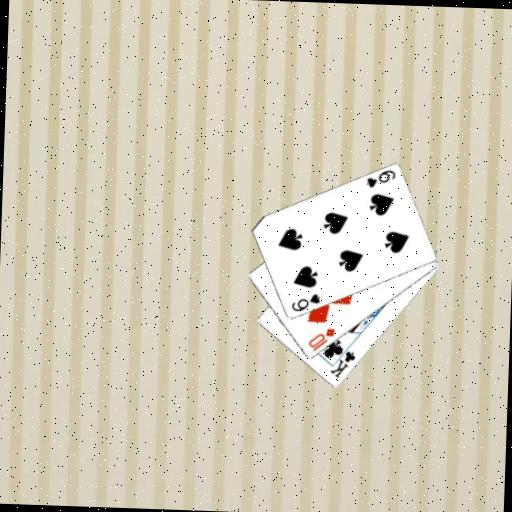10D: (305, 324, 336, 353)
6S: (288, 289, 321, 314), (363, 166, 397, 190)
KC: (327, 342, 357, 380)
